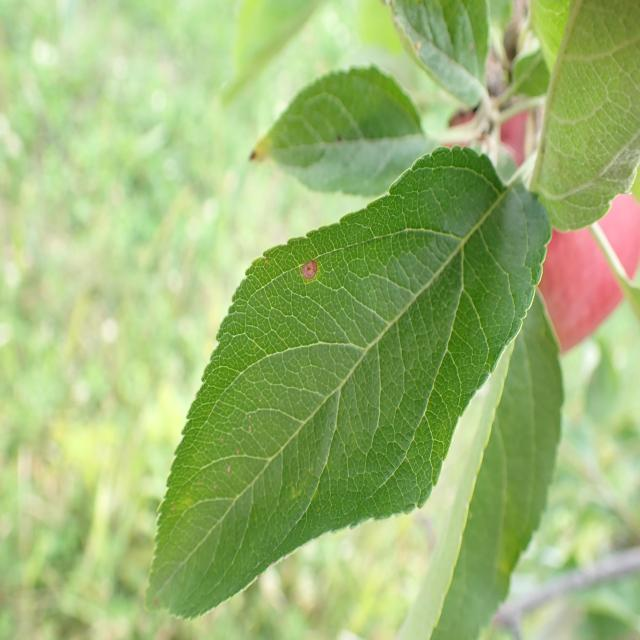frog-eye-leaf-spot: (145, 144, 554, 621)
